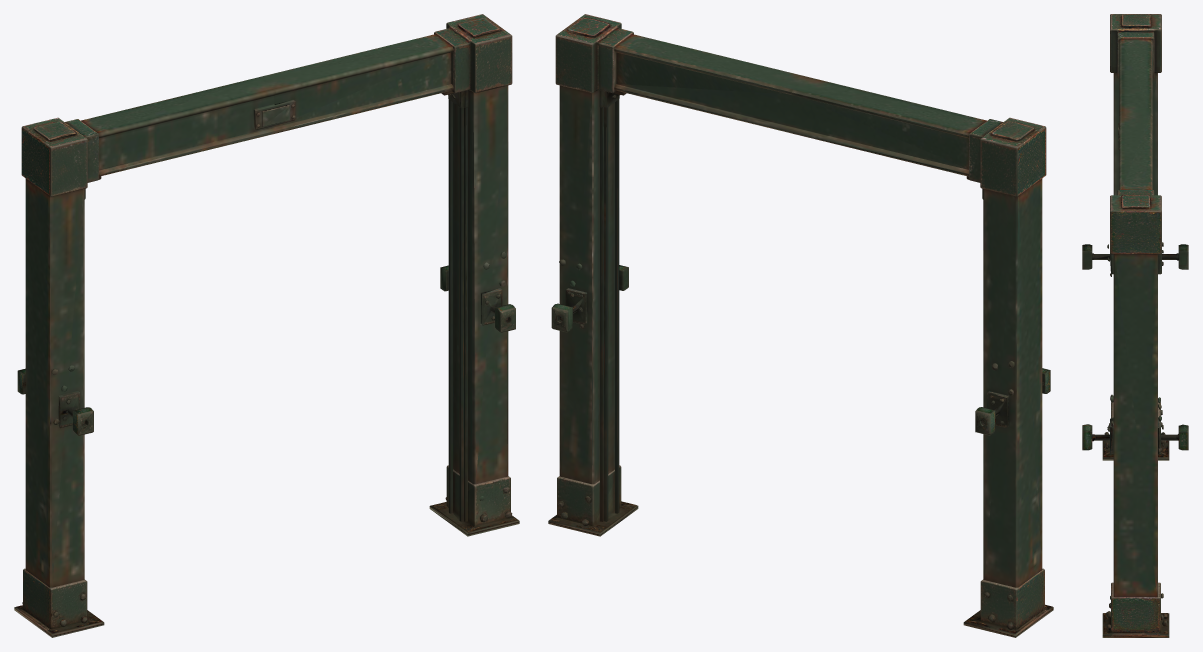
Rendered from asy_bay_frame.glb.
The picture shows the model from 3 angles, left to right: view 1: azimuth 30°, elevation 25°; view 2: azimuth 150°, elevation 25°; view 3: azimuth 270°, elevation 25°; orthographic projection. The views are drawn at different scales.
Visible parts, largest first — view 1: tripo_node_676d7721-860e-4df7-870f-4c04c188ba41; view 2: tripo_node_676d7721-860e-4df7-870f-4c04c188ba41; view 3: tripo_node_676d7721-860e-4df7-870f-4c04c188ba41.
Boxes of the visible parts, x1=… form: tripo_node_676d7721-860e-4df7-870f-4c04c188ba41: x1=14, y1=14, x2=519, y2=637; tripo_node_676d7721-860e-4df7-870f-4c04c188ba41: x1=548, y1=14, x2=1053, y2=637; tripo_node_676d7721-860e-4df7-870f-4c04c188ba41: x1=1082, y1=14, x2=1188, y2=637.
Size of the model in its own units: 2.1 by 2.1 by 0.4726.
Materials: 1 (1 with a texture image).
